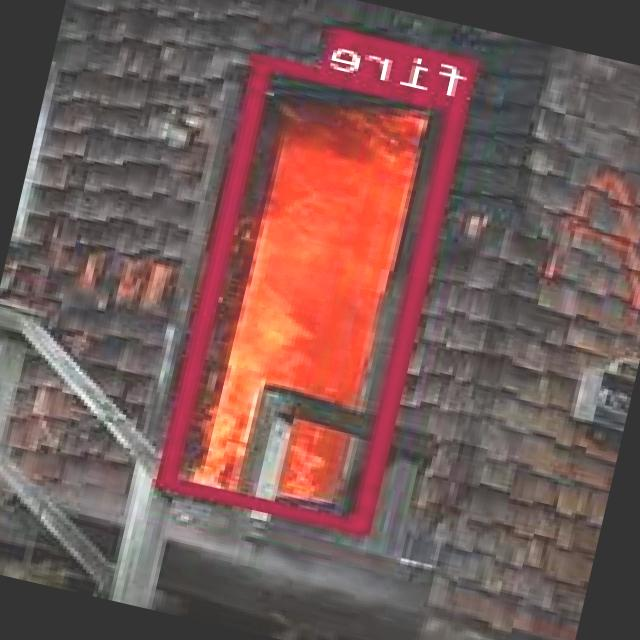fire: (160, 52, 471, 534)
